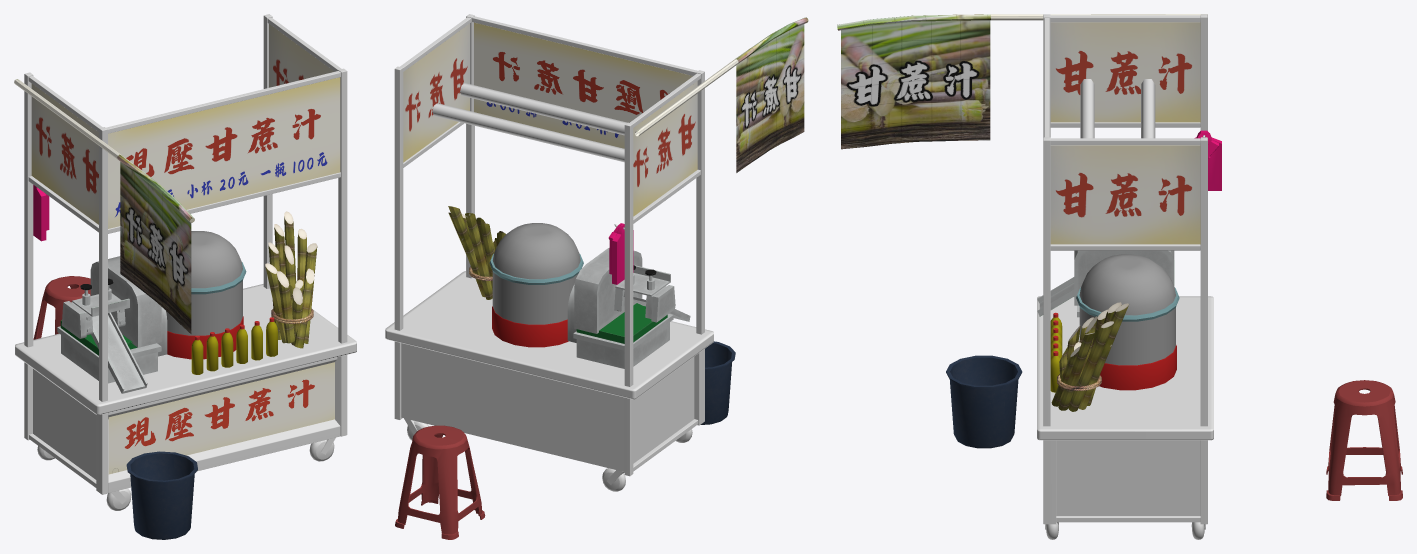
Rendered from GZZstation.fbx.
3 renders of one model, left to right at view 1: azimuth 30°, elevation 25°; view 2: azimuth 150°, elevation 25°; view 3: azimuth 270°, elevation 25°, orthographic. The views are drawn at different scales.
Parts seen in each view (by area): view 1: Frame.002, Frame.003, Frame.001, Plane.001, Cylinder.005, Cylinder.006, Cylinder.002, Torus, Frame.005, Cylinder.011, Cylinder.001, Chair (+2 smaller); view 2: Frame.002, Frame.005, Frame.003, Frame.001, Cylinder.006, Plane.001, Cylinder.005, Chair, Cylinder.004, Torus, Cylinder.003, Cylinder.002 (+3 smaller); view 3: Frame.002, Cylinder.005, Frame.003, Frame.001, Frame.005, Cylinder.006, Cylinder.002, Chair, Torus, Plane.001, Cylinder.001, Cylinder.003 (+3 smaller).
Part boxes in pixels (<box>): Frame.002: <box>31,24,340,474</box>; Frame.003: <box>24,14,347,494</box>; Frame.001: <box>15,284,356,414</box>; Plane.001: <box>57,256,167,393</box>; Cylinder.005: <box>120,162,191,333</box>; Cylinder.006: <box>166,231,246,359</box>; Cylinder.002: <box>126,451,197,539</box>; Torus: <box>265,211,317,348</box>; Frame.005: <box>33,369,96,479</box>; Cylinder.011: <box>191,317,277,374</box>; Cylinder.001: <box>14,79,194,222</box>; Chair: <box>33,276,90,339</box>; Frame.002: <box>403,22,697,216</box>; Frame.005: <box>401,343,694,471</box>; Frame.003: <box>394,14,704,476</box>; Frame.001: <box>385,271,713,399</box>; Cylinder.006: <box>489,223,583,347</box>; Plane.001: <box>567,247,690,368</box>; Cylinder.005: <box>736,24,804,172</box>; Chair: <box>395,425,485,539</box>; Cylinder.004: <box>432,103,624,162</box>; Torus: <box>448,206,505,299</box>; Cylinder.003: <box>460,83,626,135</box>; Cylinder.002: <box>700,341,735,424</box>; Frame.002: <box>1050,22,1200,244</box>; Cylinder.005: <box>841,20,990,149</box>; Frame.003: <box>1043,14,1207,524</box>; Frame.001: <box>1037,296,1213,440</box>; Frame.005: <box>1056,440,1200,515</box>; Cylinder.006: <box>1076,254,1179,390</box>; Cylinder.002: <box>946,355,1022,448</box>; Chair: <box>1326,380,1402,500</box>; Torus: <box>1051,302,1129,411</box>; Plane.001: <box>1037,250,1174,317</box>; Cylinder.001: <box>837,14,1207,30</box>; Cylinder.003: <box>1080,79,1094,138</box>.
Size of the model in its own units: 2.22 by 3.13 by 3.92.
